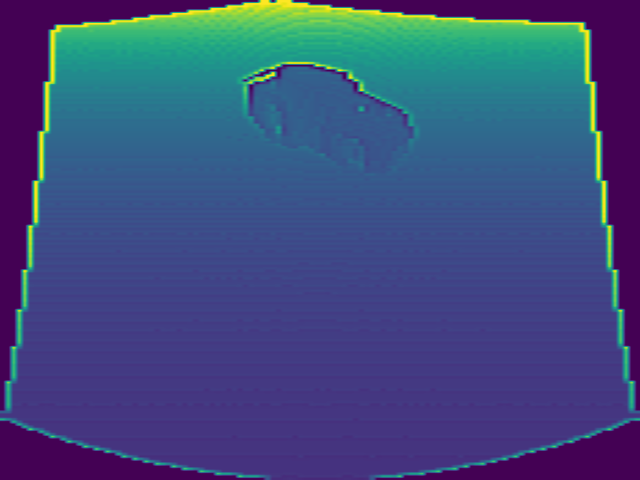car_0027: (243, 63, 415, 172)
